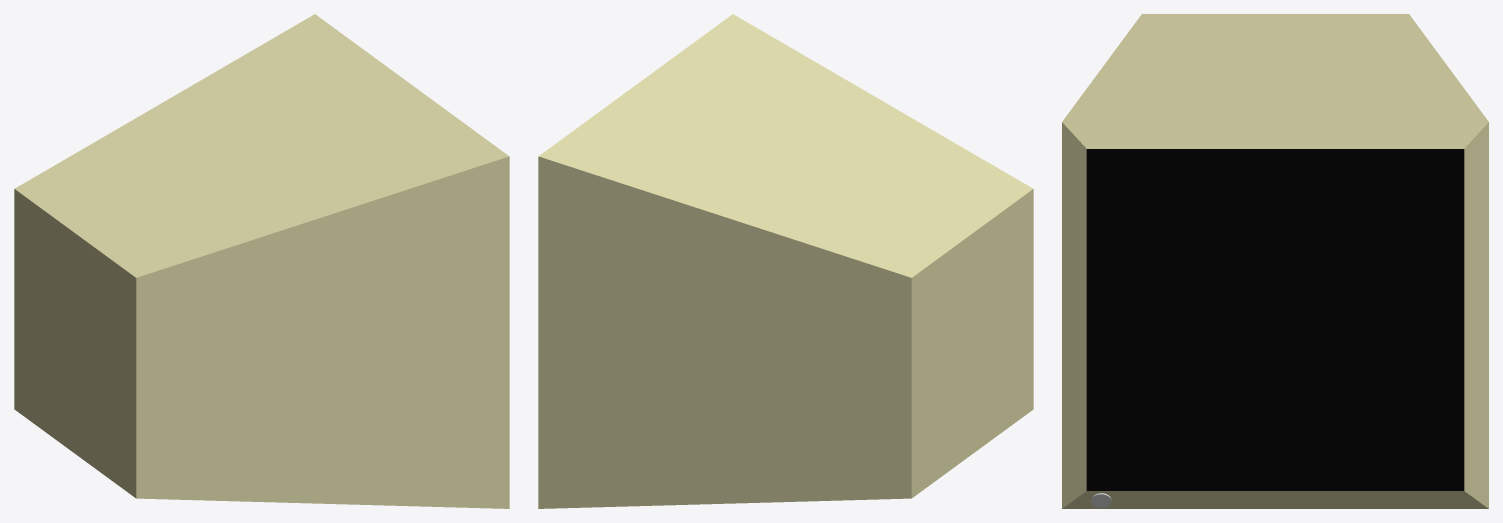
File: security_computer.fbx
The picture shows the model from 3 angles, left to right: view 1: azimuth 30°, elevation 25°; view 2: azimuth 150°, elevation 25°; view 3: azimuth 270°, elevation 25°; orthographic projection. The views are drawn at different scales.
Parts seen in each view (by area): view 1: Cube; view 2: Cube; view 3: Cube.
Part boxes in pixels (x1,y1,x2,y2): Cube: [14, 14, 509, 508]; Cube: [538, 14, 1033, 508]; Cube: [1062, 14, 1488, 508].
Size of the model in its own units: 144 by 141 by 141.
